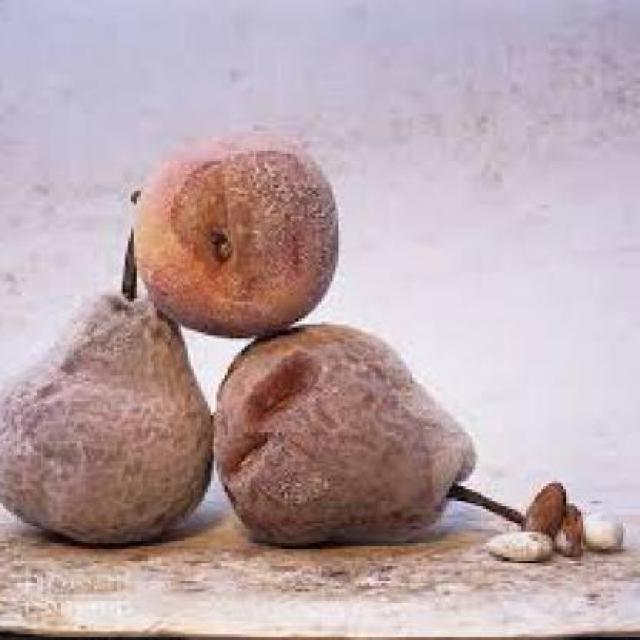BIODEGRADABLE: (3, 185, 215, 546), (219, 318, 526, 550), (136, 123, 344, 335), (523, 479, 569, 543), (490, 529, 555, 563), (554, 500, 588, 558), (588, 500, 628, 549)
